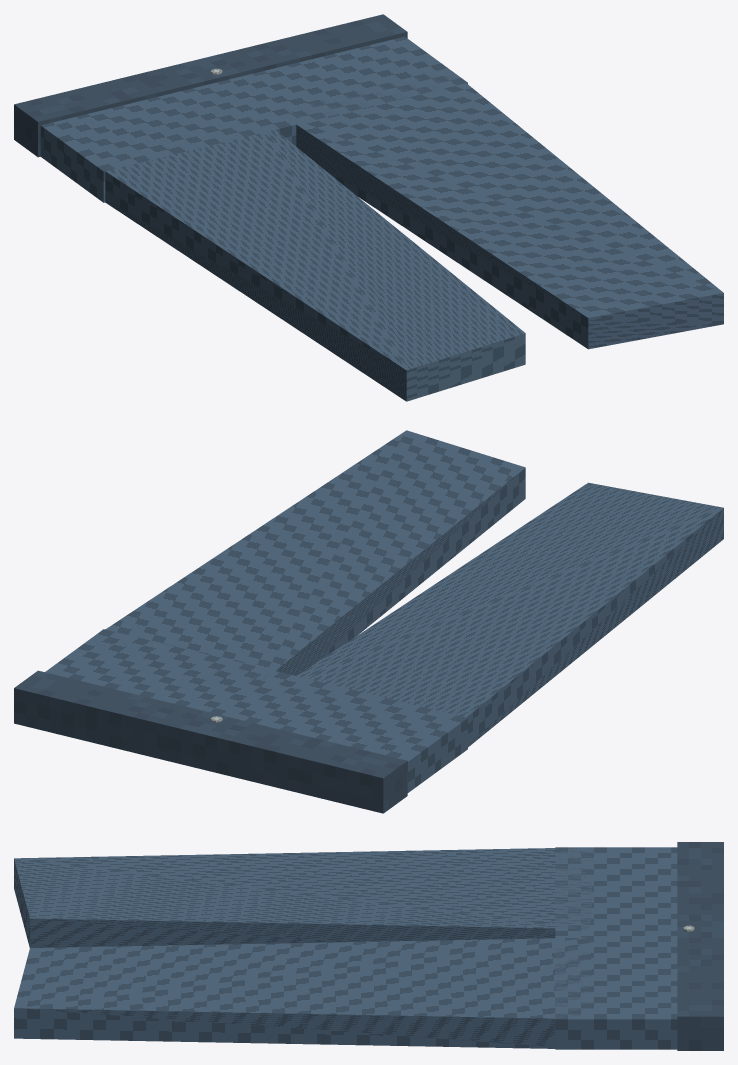
Rendered from jeans_vintage.glb.
3 views of the same model, one above another, from view 1: azimuth 30°, elevation 25°; view 2: azimuth 150°, elevation 25°; view 3: azimuth 270°, elevation 25° (orthographic). The views are drawn at different scales.
Visible parts, largest first — view 1: block_leg 1, block_leg -1, block_seat, block_waistband; view 2: block_leg -1, block_leg 1, block_seat, block_waistband; view 3: block_leg 1, block_leg -1, block_seat, block_waistband.
Boxes of the visible parts, x1,y1,x2,y2 form: block_leg 1: (278, 68, 723, 349); block_leg -1: (86, 118, 525, 401); block_seat: (40, 36, 467, 202); block_waistband: (14, 14, 407, 157); block_leg -1: (278, 482, 723, 747); block_leg 1: (105, 430, 525, 683); block_seat: (45, 629, 467, 792); block_waistband: (14, 670, 407, 813); block_leg 1: (14, 937, 593, 1048); block_leg -1: (14, 847, 594, 947); block_seat: (555, 847, 677, 1049); block_waistband: (677, 842, 723, 1050).
Bounding box in the file's own units: 0.1723 × 0.0164 × 0.2961.
1 material, 1 textured.
